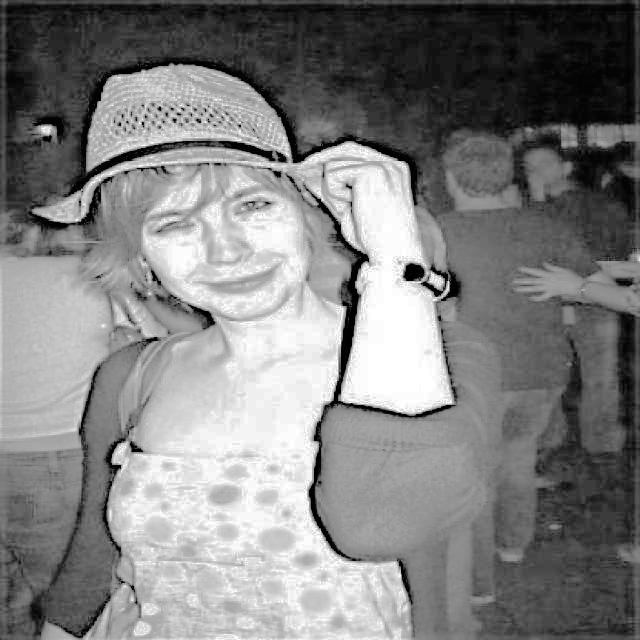Person: (26, 63, 497, 640)
